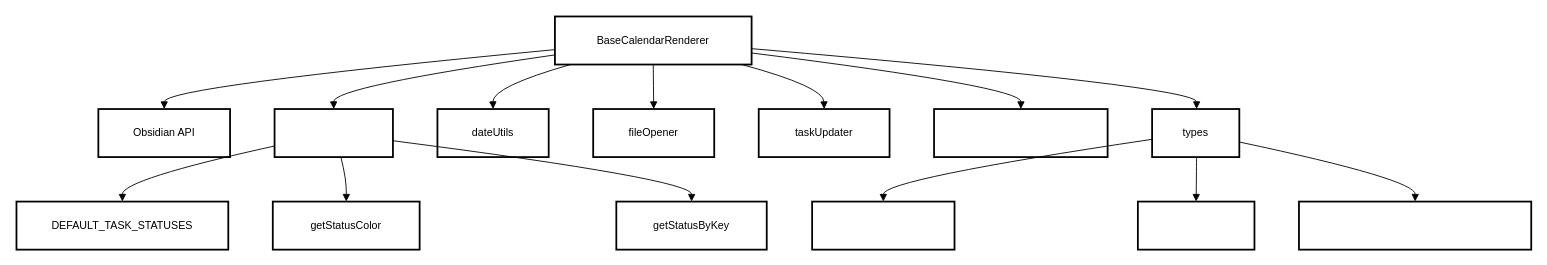
Some shapes in this 1547 by 265 pixel diagram are drawn without their labels. The centre of each missing label's shape, as x and y in pixels:
DEFAULT_TAG_FILTER_STATE: the point at 1415,225
GanttTask: the point at 1196,225
RegularExpressions: the point at 1020,133
TagFilterState: the point at 883,225
taskStatus: the point at 333,133
